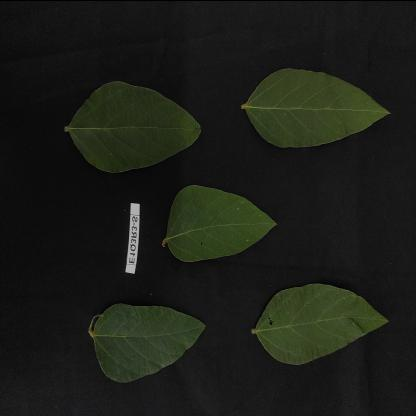label: (122, 189, 146, 281)
leaflets: (242, 50, 394, 152), (251, 263, 396, 367), (60, 71, 210, 171), (83, 290, 218, 379), (163, 179, 272, 263)
